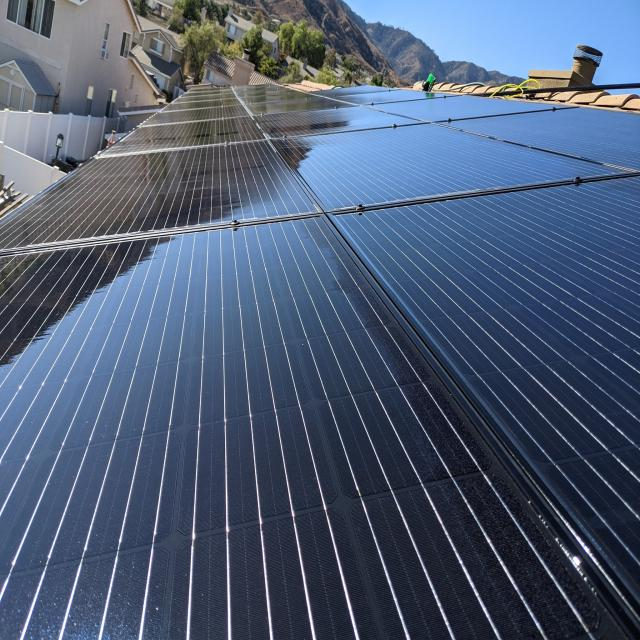clean-solar-panel: (0, 87, 640, 638)
